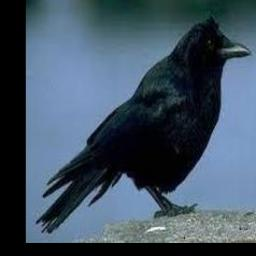Crow: (35, 18, 251, 237)
